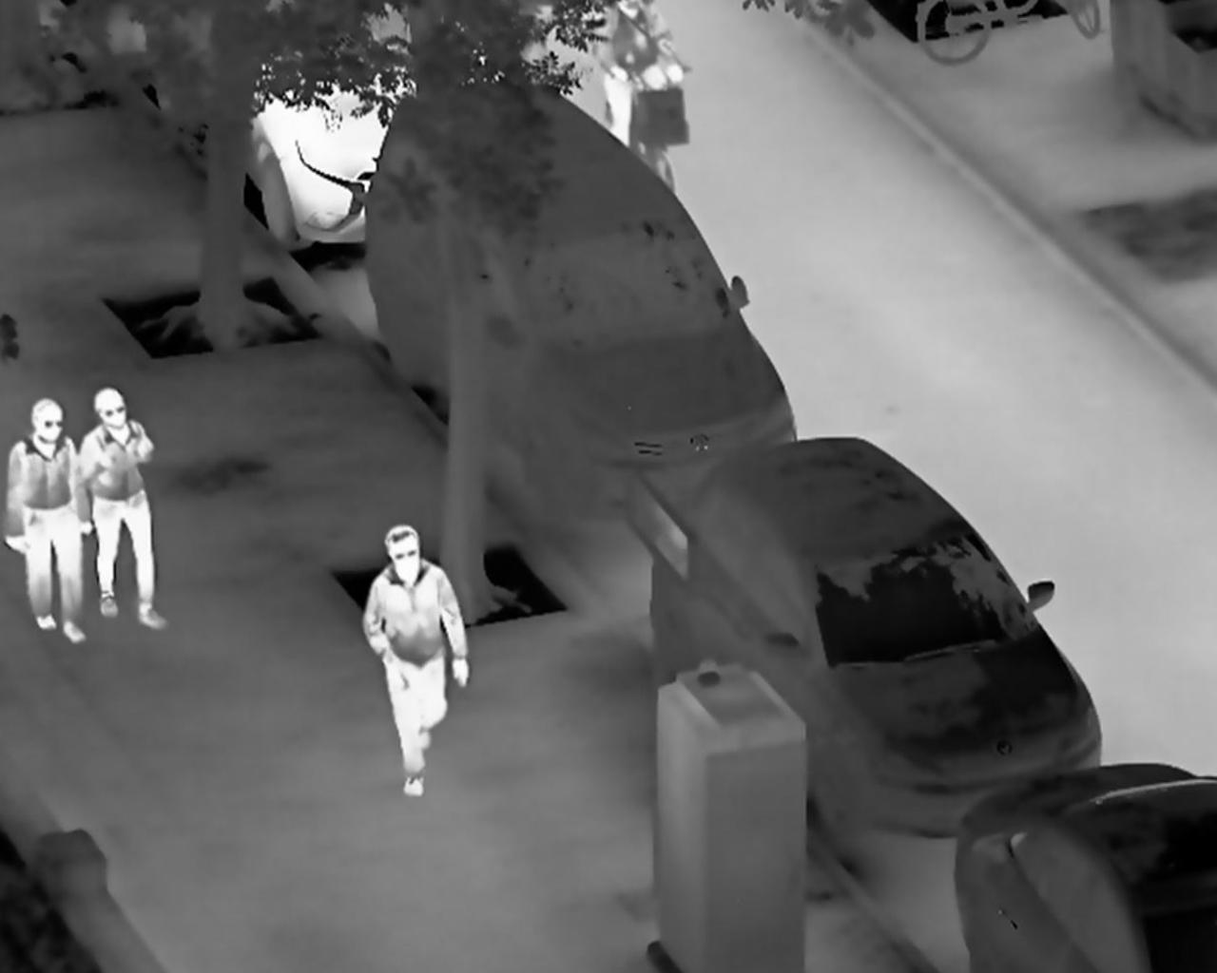person: (360, 524, 472, 799), (80, 388, 170, 634), (4, 397, 87, 646)
